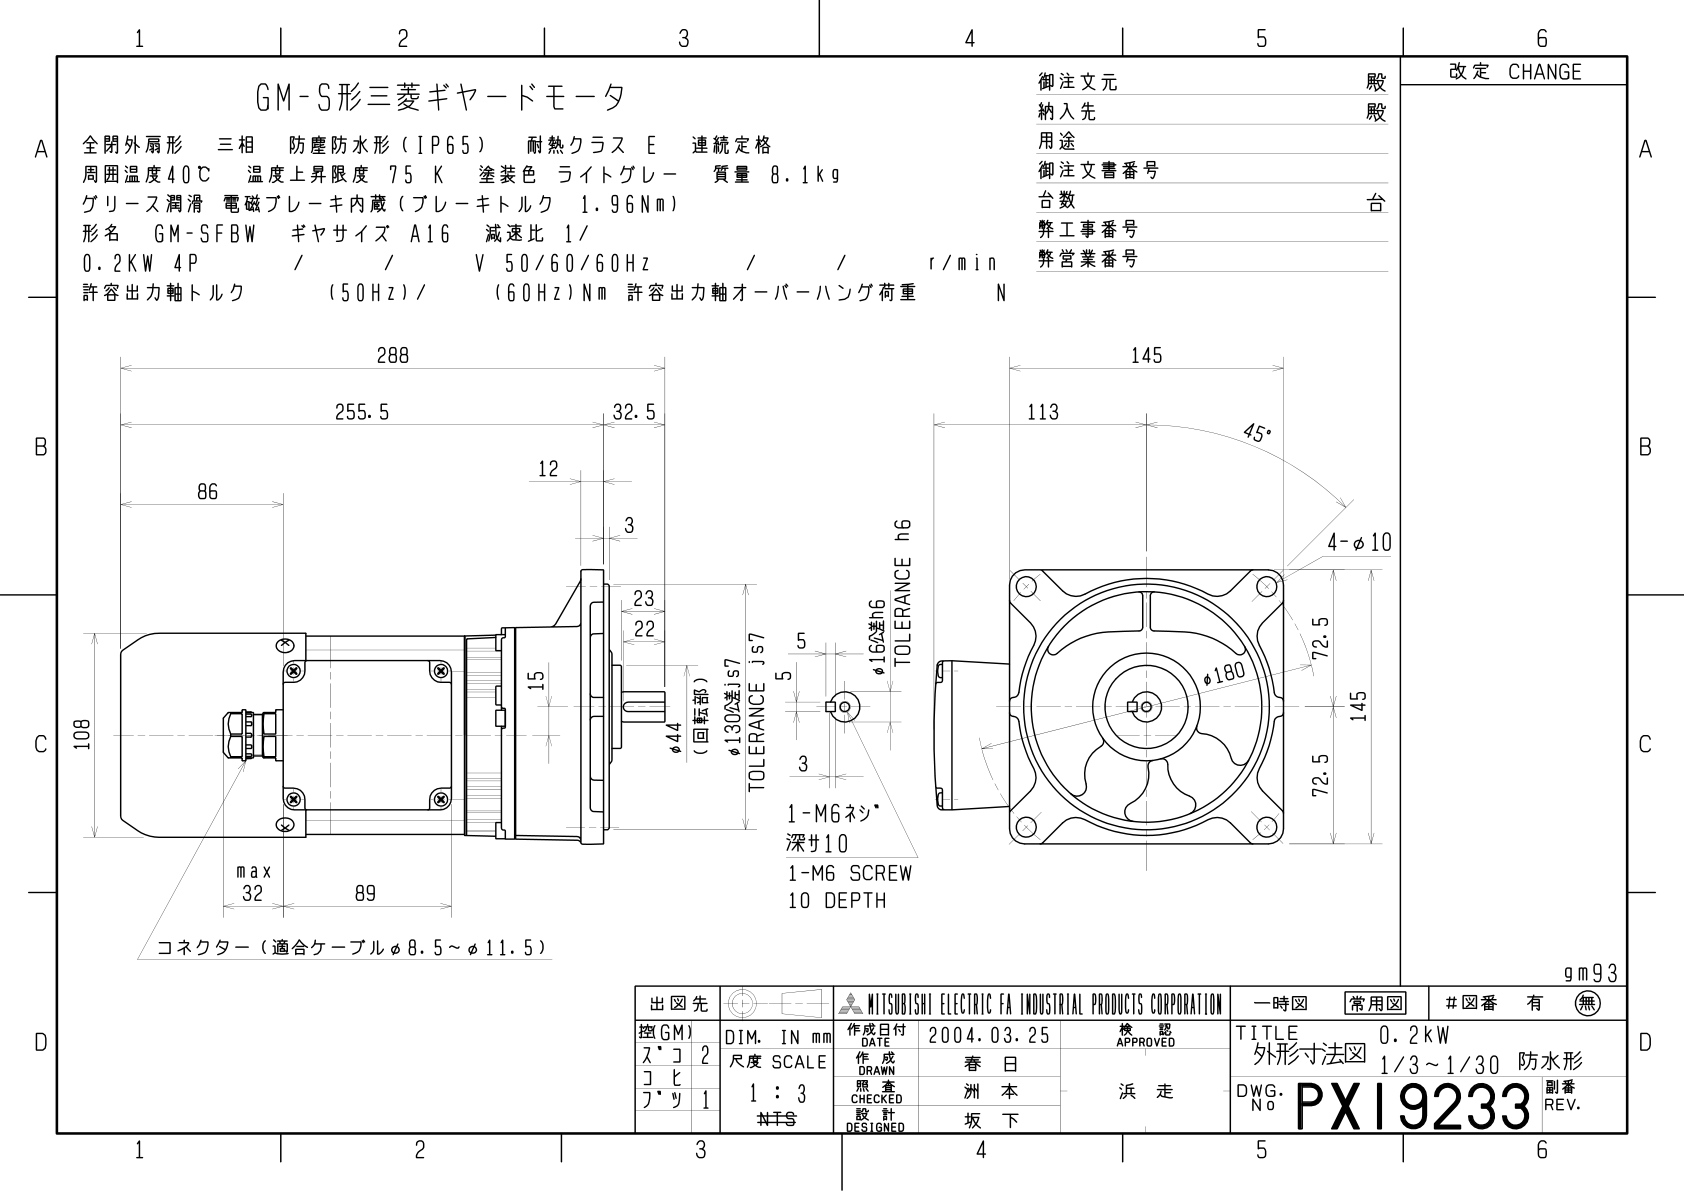GM_S_IP65＿三相_フランジ: (75, 324, 1395, 969)
